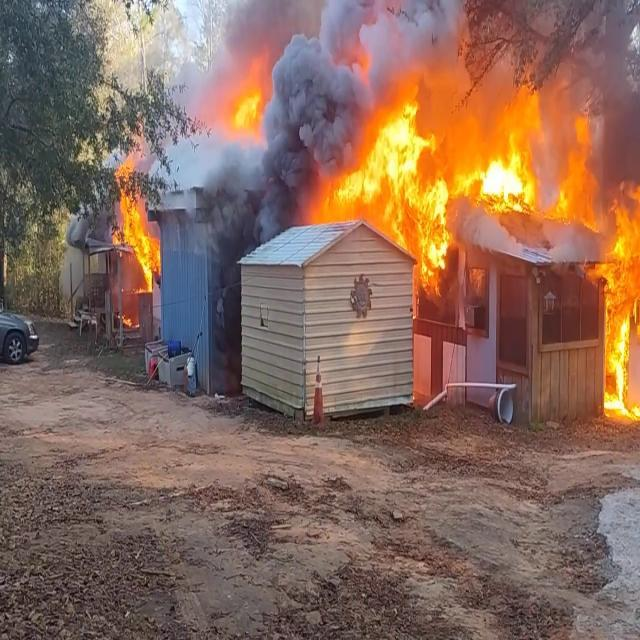Fire: (304, 76, 616, 280), (595, 179, 640, 423), (112, 148, 163, 293), (198, 54, 280, 142)
